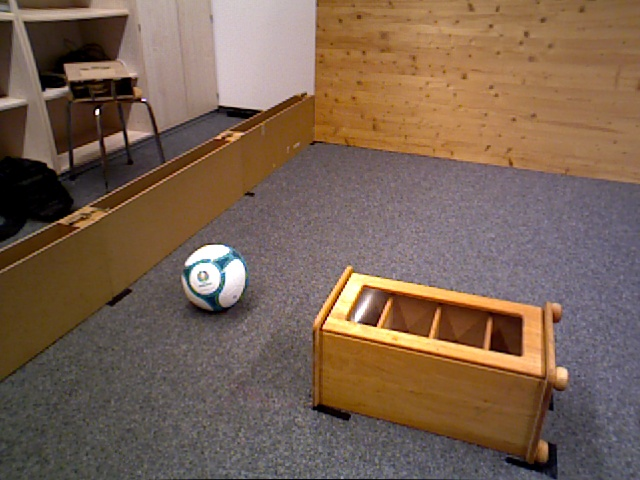kick: (181, 242, 247, 314)
